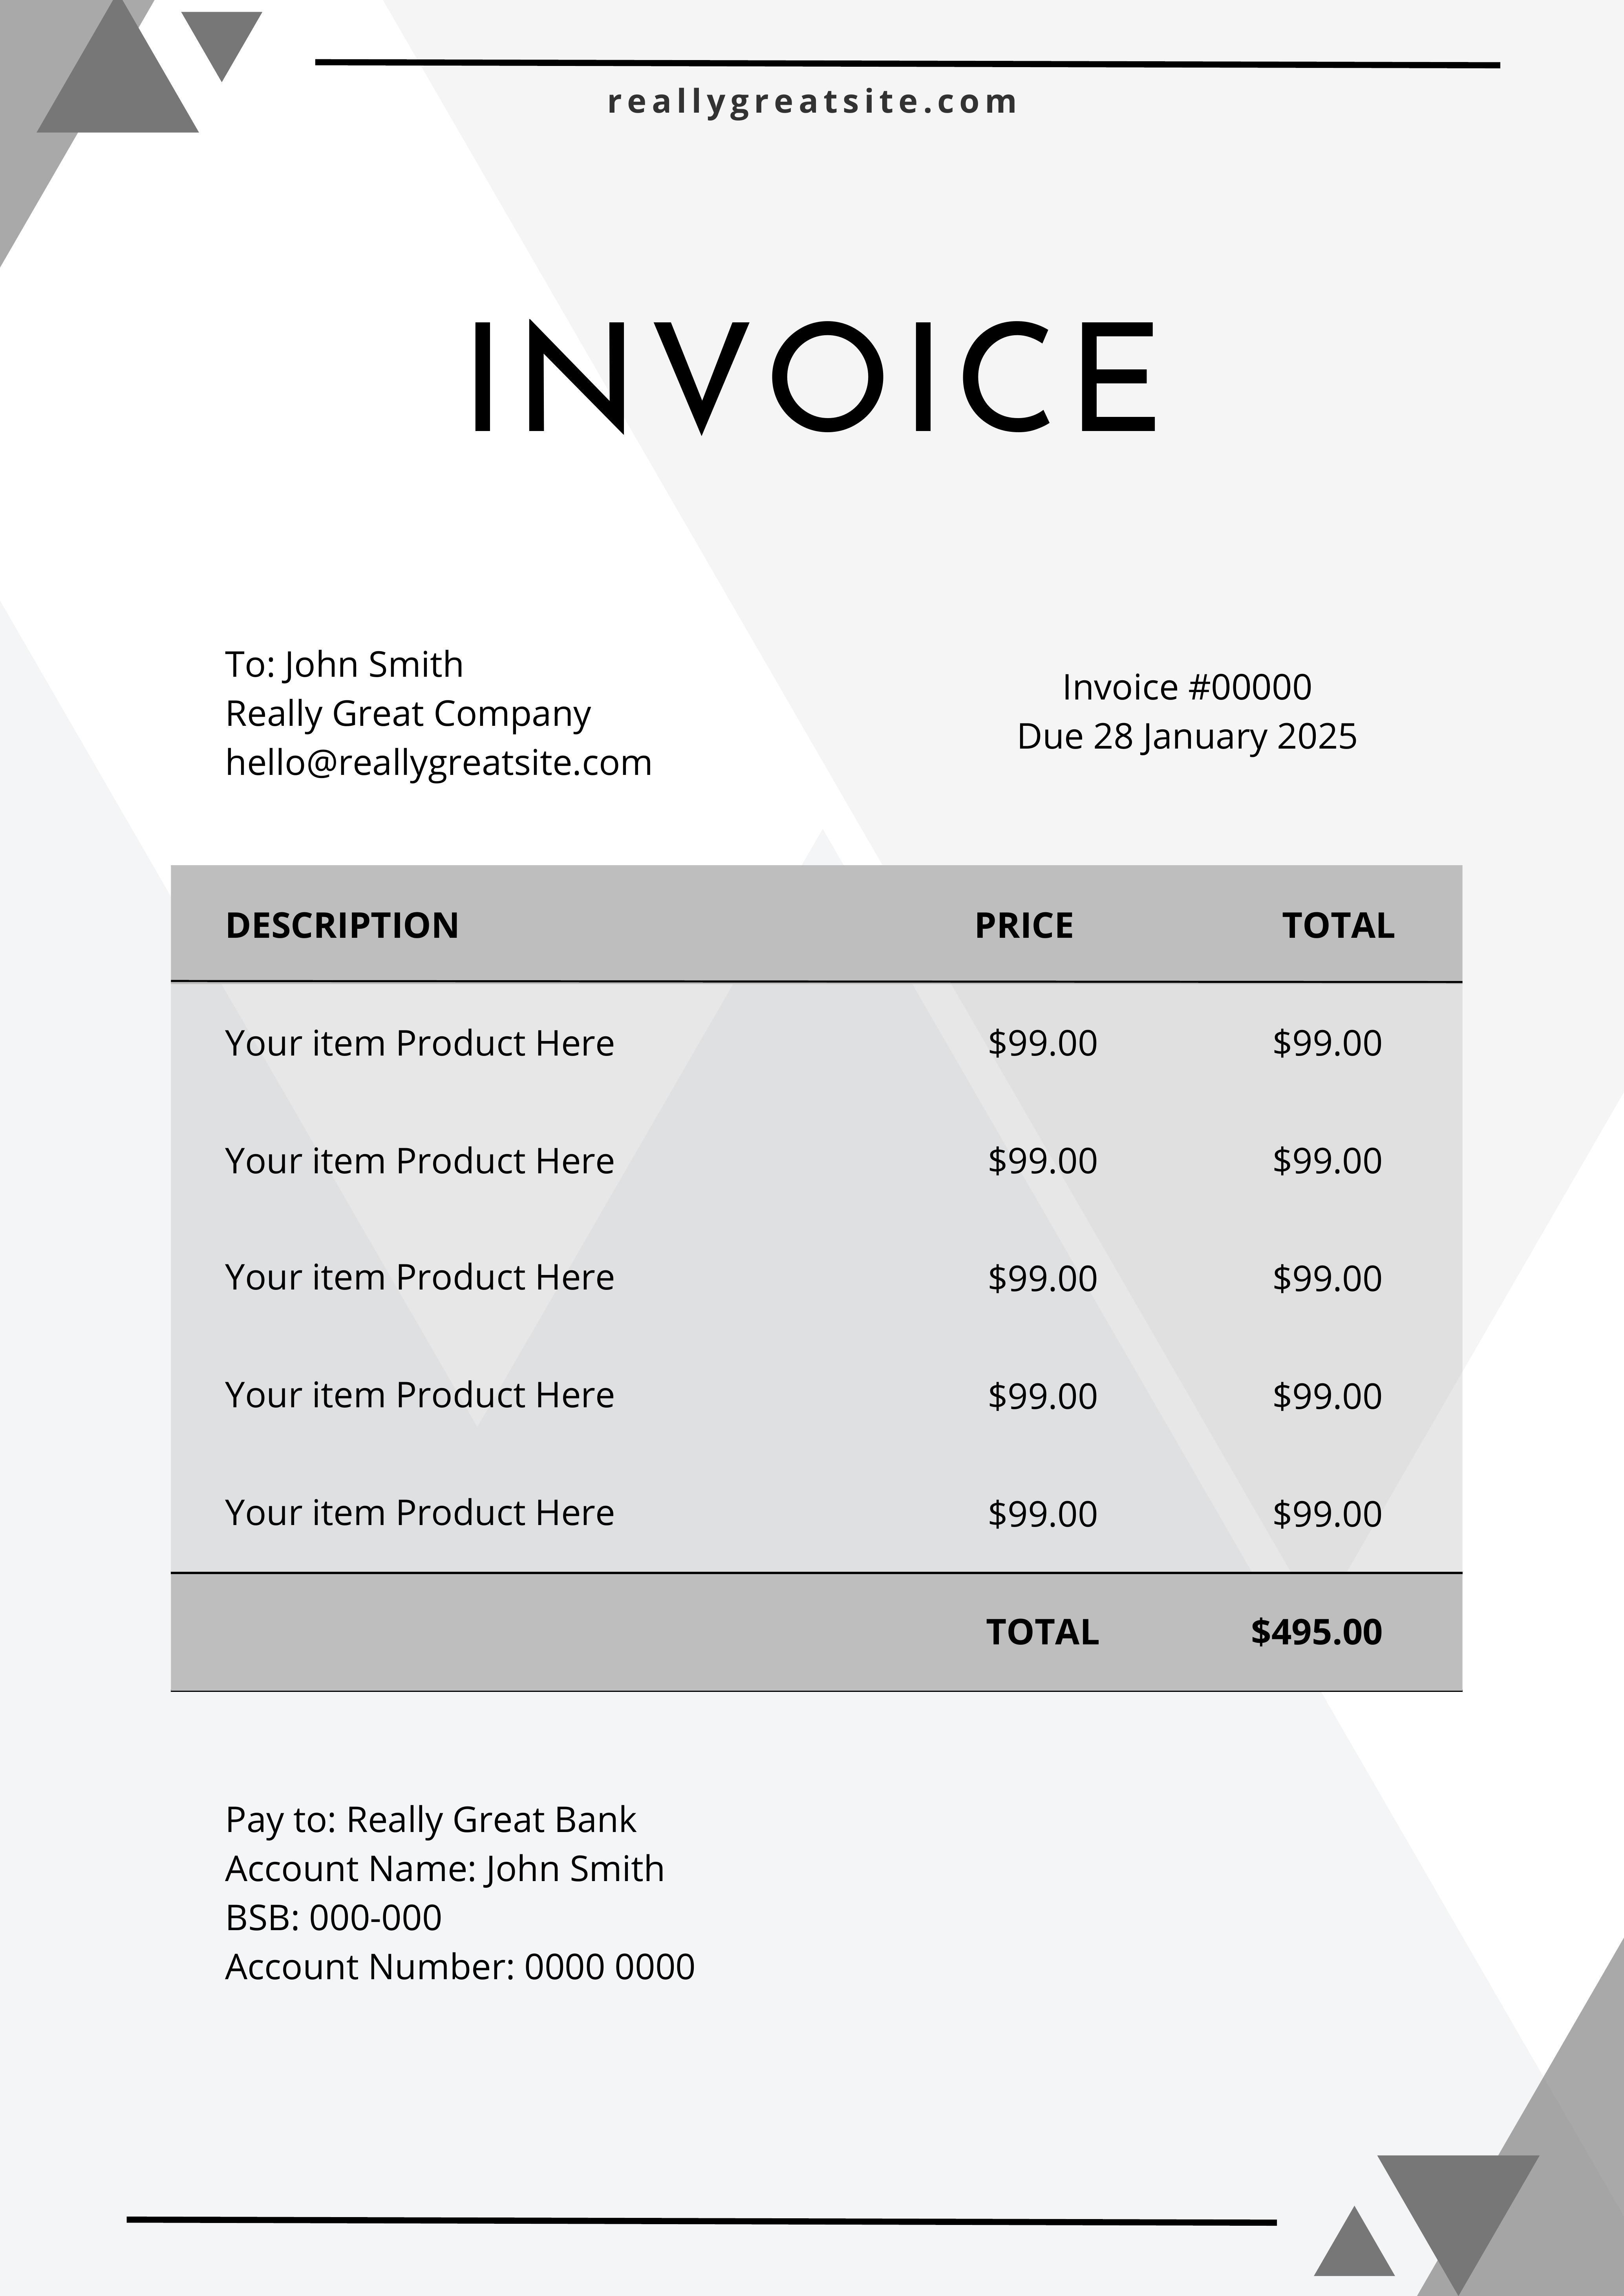ROI: (213, 894, 1403, 1555), (216, 1794, 703, 2006), (216, 636, 656, 792), (1002, 659, 1371, 766), (573, 70, 1044, 146), (974, 1597, 1397, 1660)
